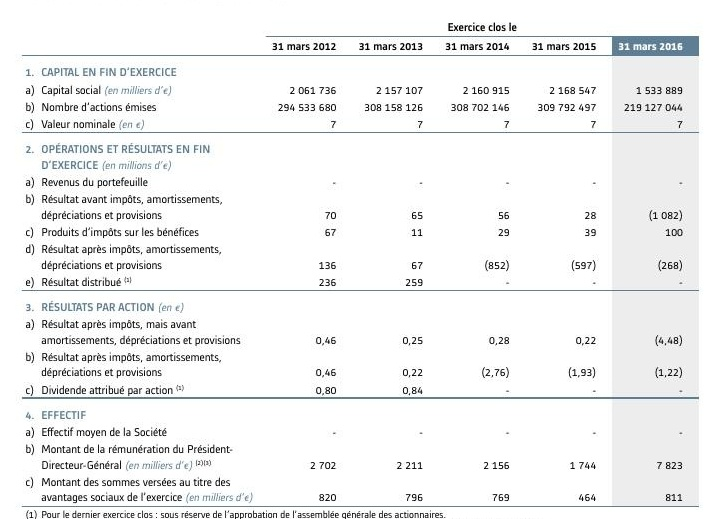table: (0, 0, 716, 519)
